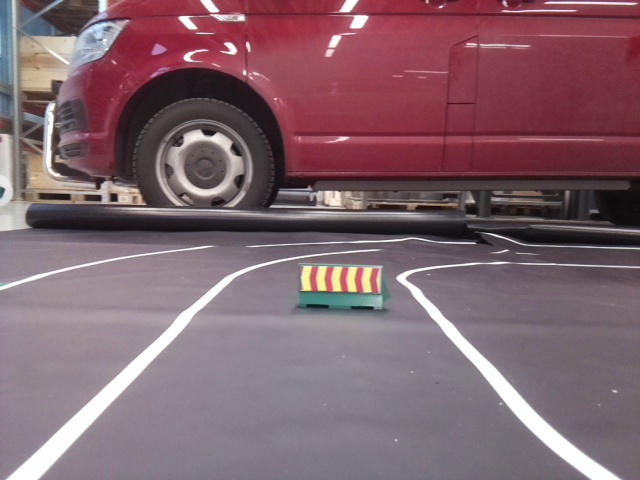ClosedRoadStand: (296, 262, 383, 309)
